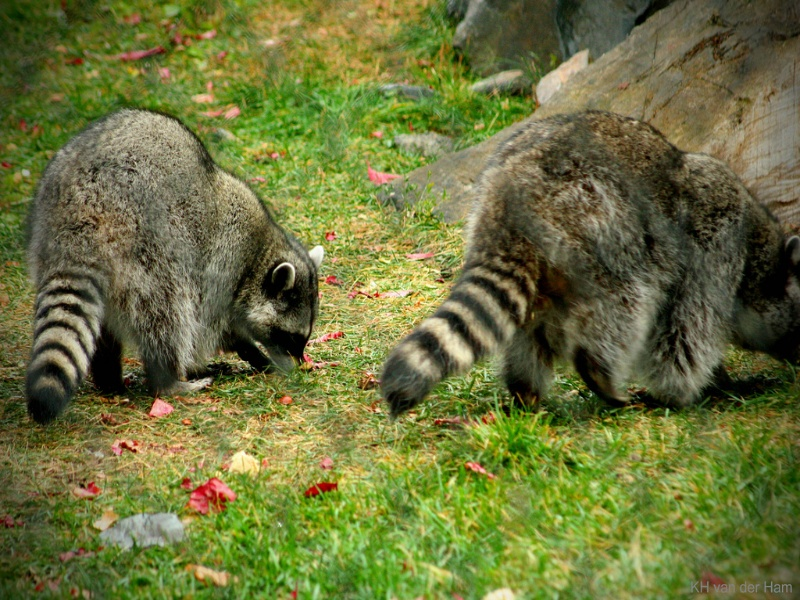raccoon: (379, 103, 800, 438), (22, 99, 336, 427)
